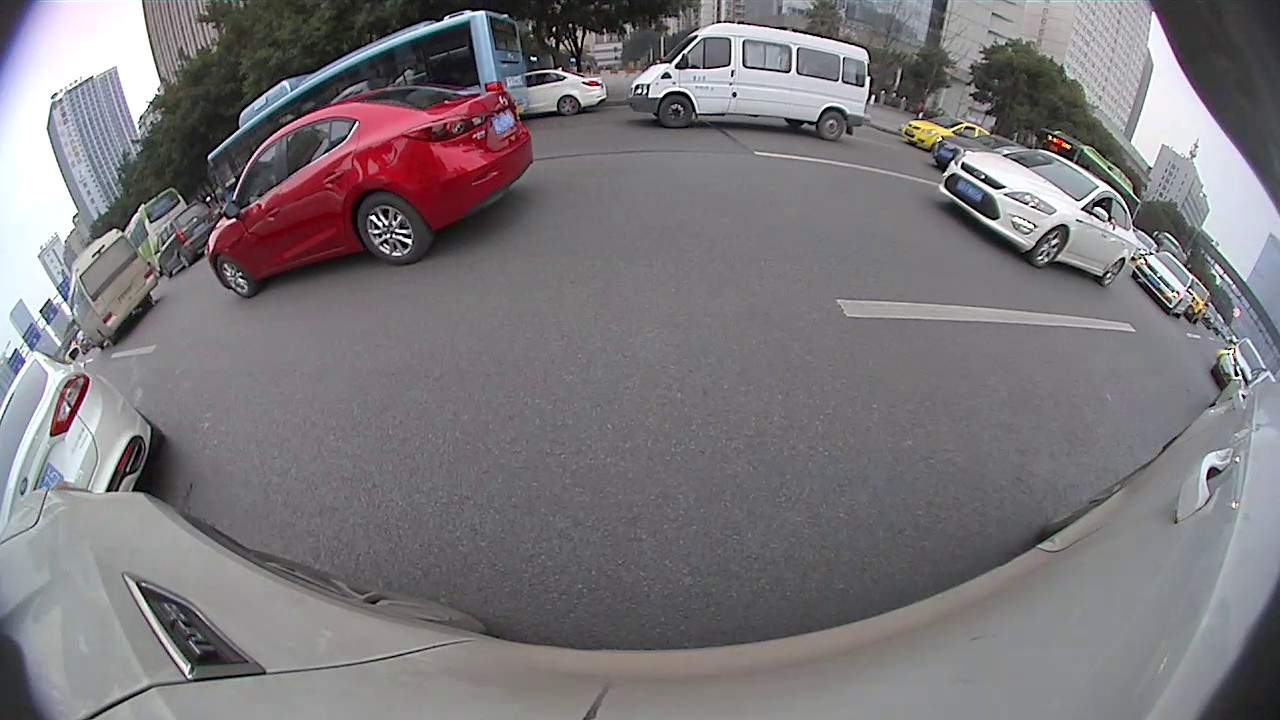bus: (238, 13, 525, 164), (66, 232, 159, 349)
car: (212, 83, 534, 298), (2, 357, 164, 553), (628, 25, 869, 138), (942, 150, 1133, 288), (508, 71, 608, 118), (158, 204, 210, 278), (1136, 254, 1194, 318)
front: (213, 252, 255, 299), (1033, 227, 1068, 268), (660, 94, 694, 130)
rear: (356, 191, 429, 266), (818, 110, 846, 139), (1100, 257, 1127, 287), (557, 94, 579, 116)
